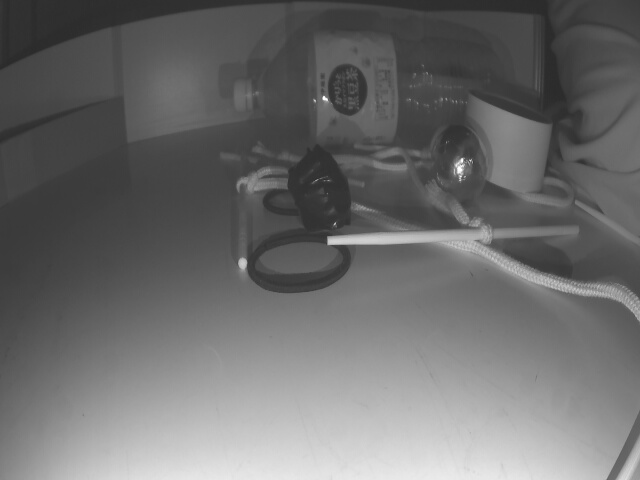Dead: (288, 143, 348, 229)
Live: (430, 121, 488, 204)
Point: (0, 97, 122, 211)
